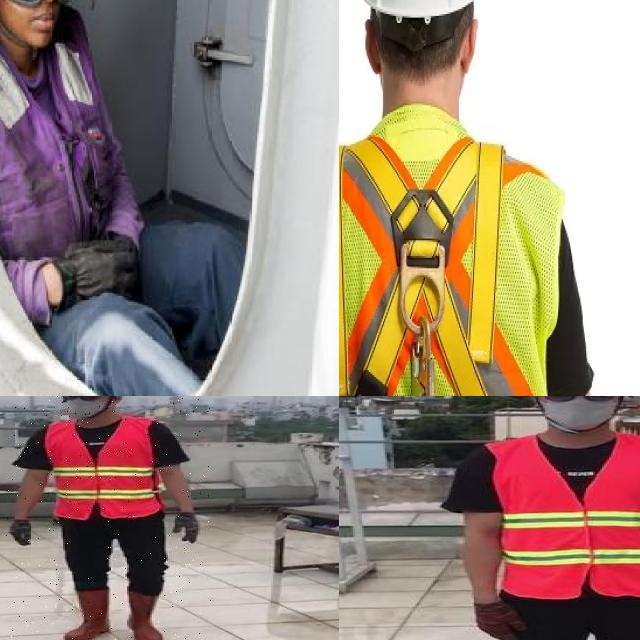Harness: (339, 138, 518, 396)
boots: (65, 589, 111, 640), (123, 590, 167, 640)
face_mask: (539, 396, 621, 431)
face_nomask: (4, 0, 71, 38)
glasses: (533, 396, 627, 408)
hand_glove: (62, 229, 135, 297), (470, 601, 527, 640)
person: (0, 0, 250, 396), (6, 396, 211, 640), (440, 396, 640, 640)
vest: (485, 435, 640, 596), (47, 419, 163, 518)
